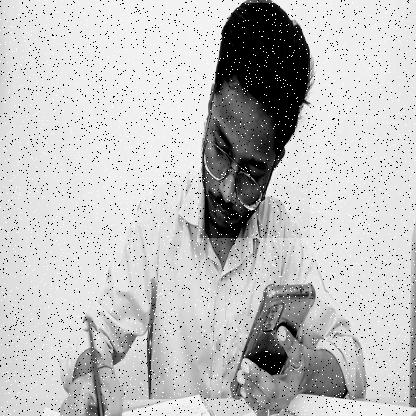Distracted: (198, 3, 310, 238)
